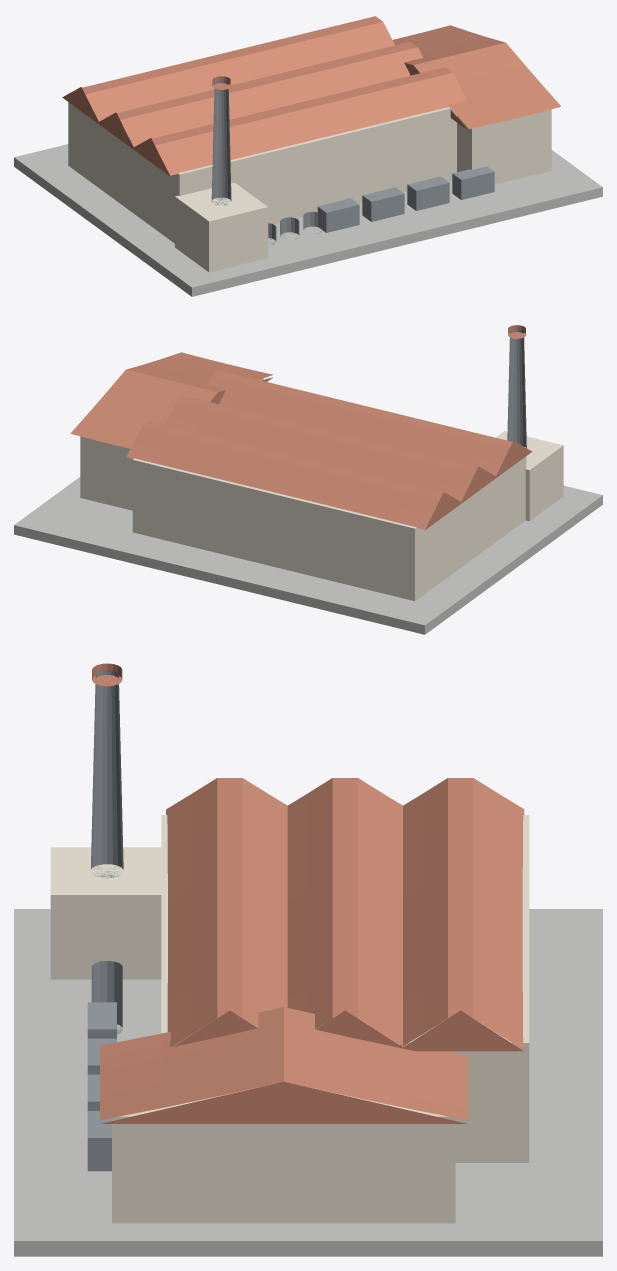
Rendered from lm_77_xuong_uom_to_det_lua_cuong_hoan_ta_nung.glb.
3 views of the same model, one above another, from view 1: azimuth 30°, elevation 25°; view 2: azimuth 150°, elevation 25°; view 3: azimuth 270°, elevation 25° (orthographic). The views are drawn at different scales.
Visible parts, largest first — view 1: lm_77_xuong_uom_to_det_lua_cuong_hoan_ta_nung; view 2: lm_77_xuong_uom_to_det_lua_cuong_hoan_ta_nung; view 3: lm_77_xuong_uom_to_det_lua_cuong_hoan_ta_nung.
Part boxes in pixels (x1,y1,x2,y2): lm_77_xuong_uom_to_det_lua_cuong_hoan_ta_nung: (14, 16, 602, 296); lm_77_xuong_uom_to_det_lua_cuong_hoan_ta_nung: (14, 325, 602, 634); lm_77_xuong_uom_to_det_lua_cuong_hoan_ta_nung: (14, 663, 602, 1256).
Size of the model in its own units: 32 by 13.55 by 24.
